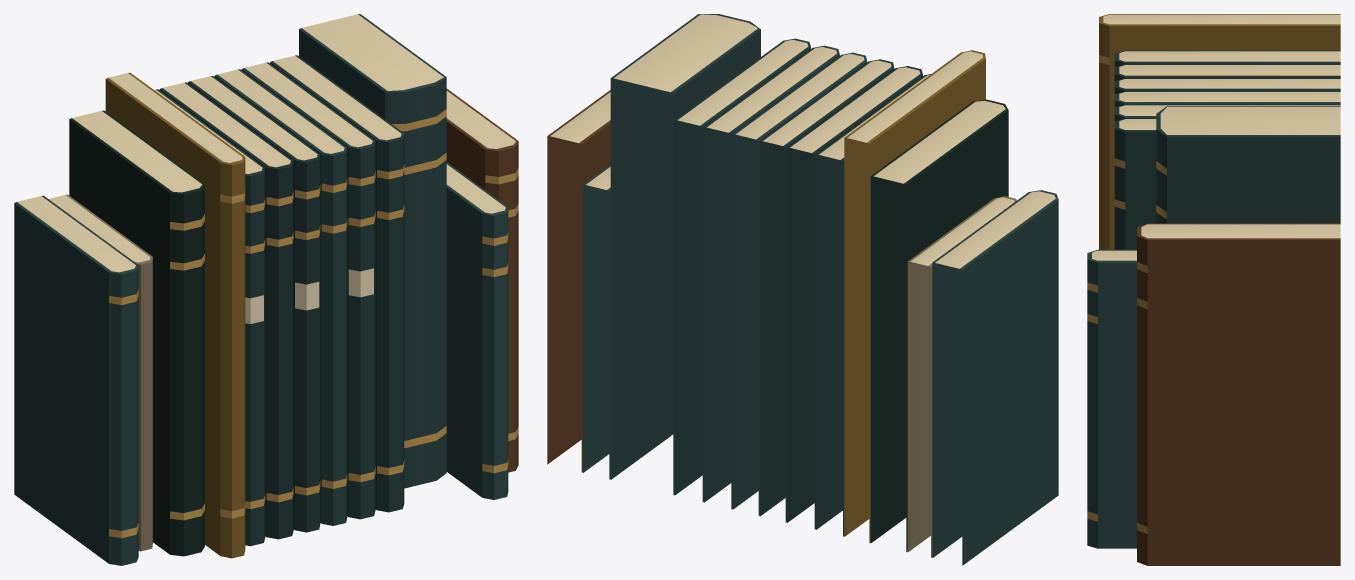
File: bookrow_tall_1.glb
3 renders of one model, left to right at view 1: azimuth 30°, elevation 25°; view 2: azimuth 150°, elevation 25°; view 3: azimuth 270°, elevation 25°, orthographic.
Parts seen in each view (by area): view 1: bookrow_tall_1; view 2: bookrow_tall_1; view 3: bookrow_tall_1.
Part boxes in pixels (x1,y1,x2,y2): bookrow_tall_1: (14, 14, 518, 565); bookrow_tall_1: (547, 14, 1058, 565); bookrow_tall_1: (1087, 14, 1340, 565).
Bounding box in the file's own units: 0.4649 × 0.4308 × 0.2476.
